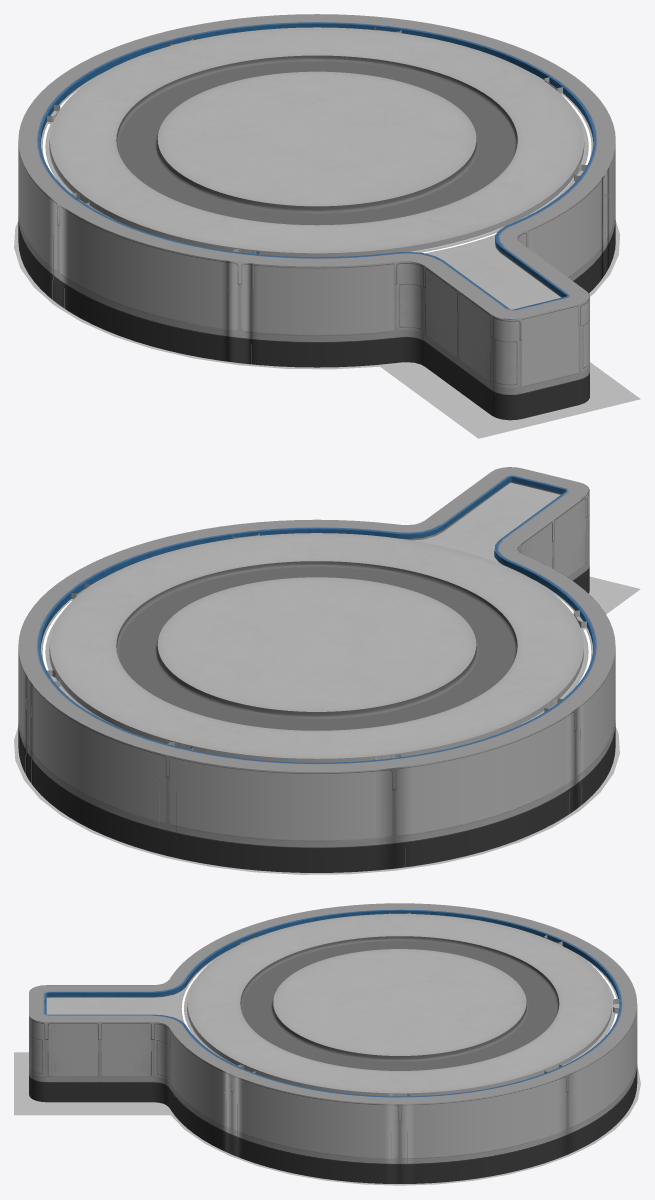
File: RoboticLab.fbx
The picture shows the model from 3 angles, top to bottom: view 1: azimuth 30°, elevation 25°; view 2: azimuth 150°, elevation 25°; view 3: azimuth 270°, elevation 25°; orthographic projection. The views are drawn at different scales.
Parts seen in each view (by area): view 1: Roof17, Wall, RoofBorder, Floor2; view 2: Roof17, Wall, RoofBorder, Floor2; view 3: Roof17, Wall, RoofBorder, Floor2.
Boxes of the visible parts, <box> form: Roof17: <box>41,27,593,318</box>; Wall: <box>18,142,615,420</box>; RoofBorder: <box>18,14,615,319</box>; Floor2: <box>14,221,640,438</box>; Roof17: <box>41,483,592,762</box>; Wall: <box>18,467,615,872</box>; RoofBorder: <box>18,467,615,772</box>; Floor2: <box>14,576,640,874</box>; Roof17: <box>46,914,619,1096</box>; Wall: <box>29,935,637,1183</box>; RoofBorder: <box>29,903,637,1103</box>; Floor2: <box>14,1052,640,1185</box>.
Bounding box in the file's own units: 2286 × 425 × 2972.
